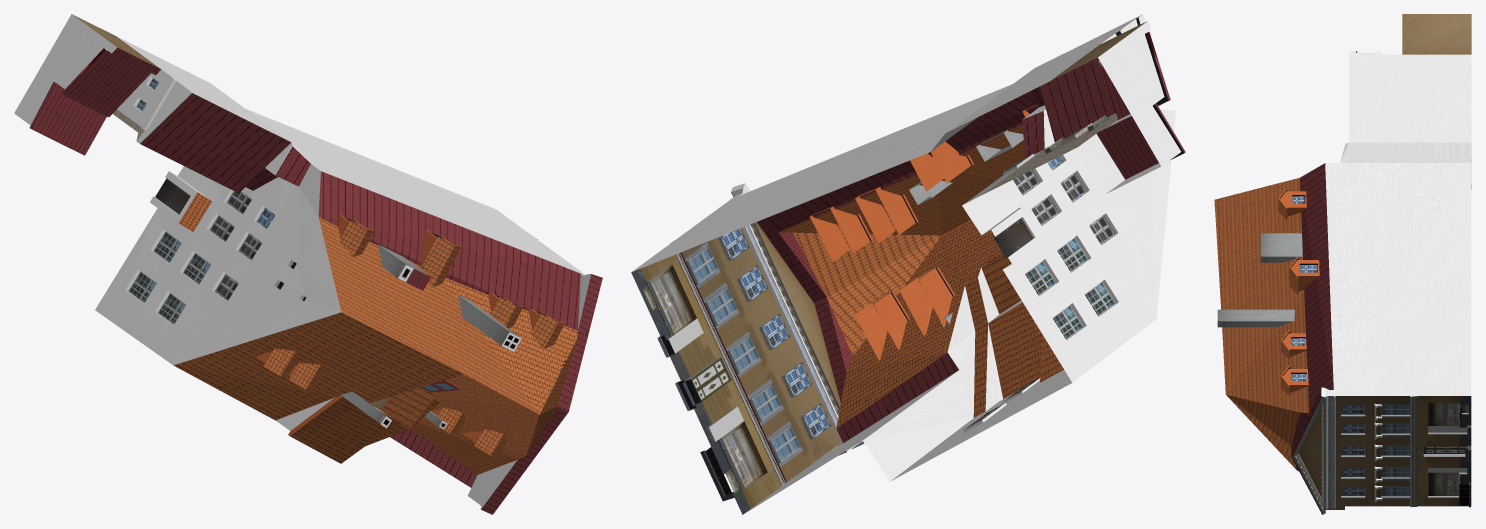
Rendered from Pikk_33.obj.
The picture shows the model from 3 angles, left to right: view 1: azimuth 30°, elevation 25°; view 2: azimuth 150°, elevation 25°; view 3: azimuth 270°, elevation 25°; orthographic projection. The views are drawn at different scales.
Parts seen in each view (by area): view 1: Pikk_33; view 2: Pikk_33; view 3: Pikk_33.
Boxes of the visible parts, x1,y1,x2,y2 form: Pikk_33: (14,14,602,514); Pikk_33: (631,14,1185,514); Pikk_33: (1214,14,1471,514).
Bounding box in the file's own units: 37.46 × 36.88 × 22.47.
